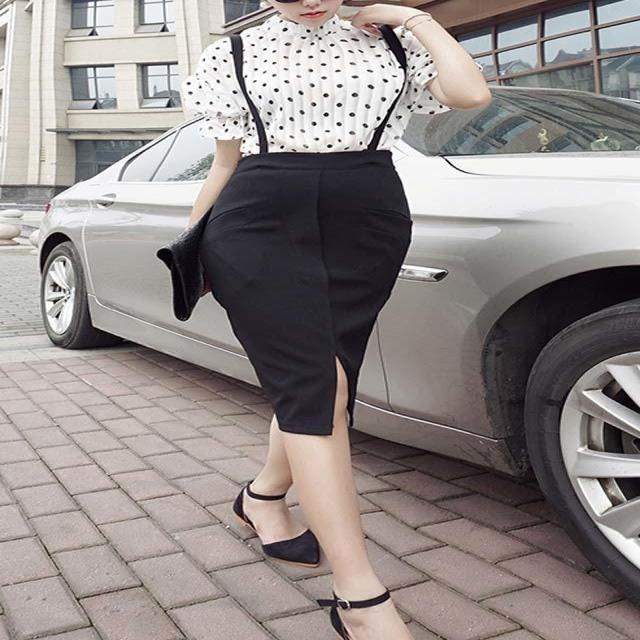short sleeve top: (179, 13, 485, 159)
sling dress: (201, 25, 413, 436)
